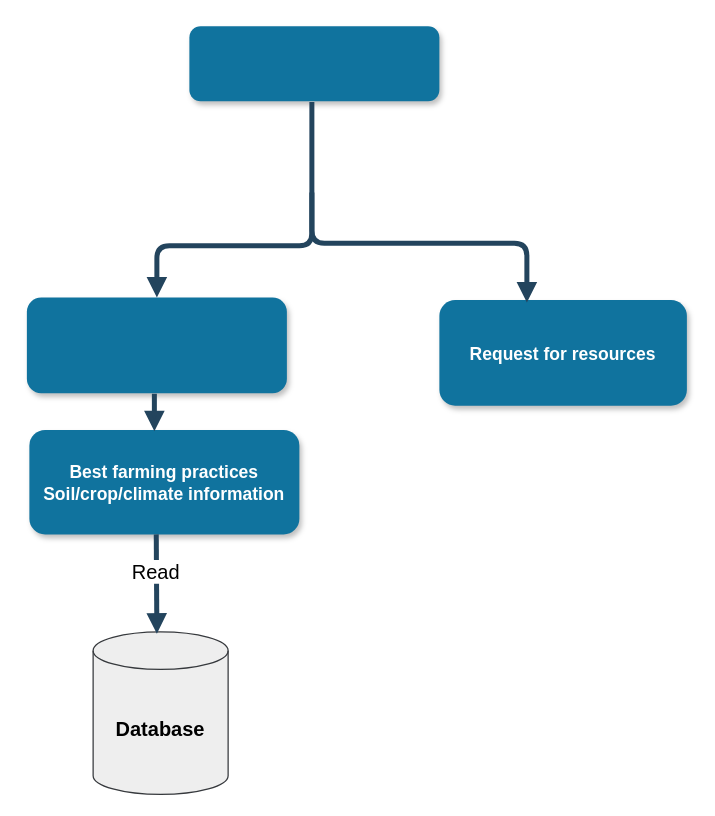
Some shapes in this 715 by 816 pixel diagram are drawn without their labels. The centre of each missing label's shape, as x and y in pixels:
Evergreen initiative: point (315, 65)
Get location: point (157, 346)
